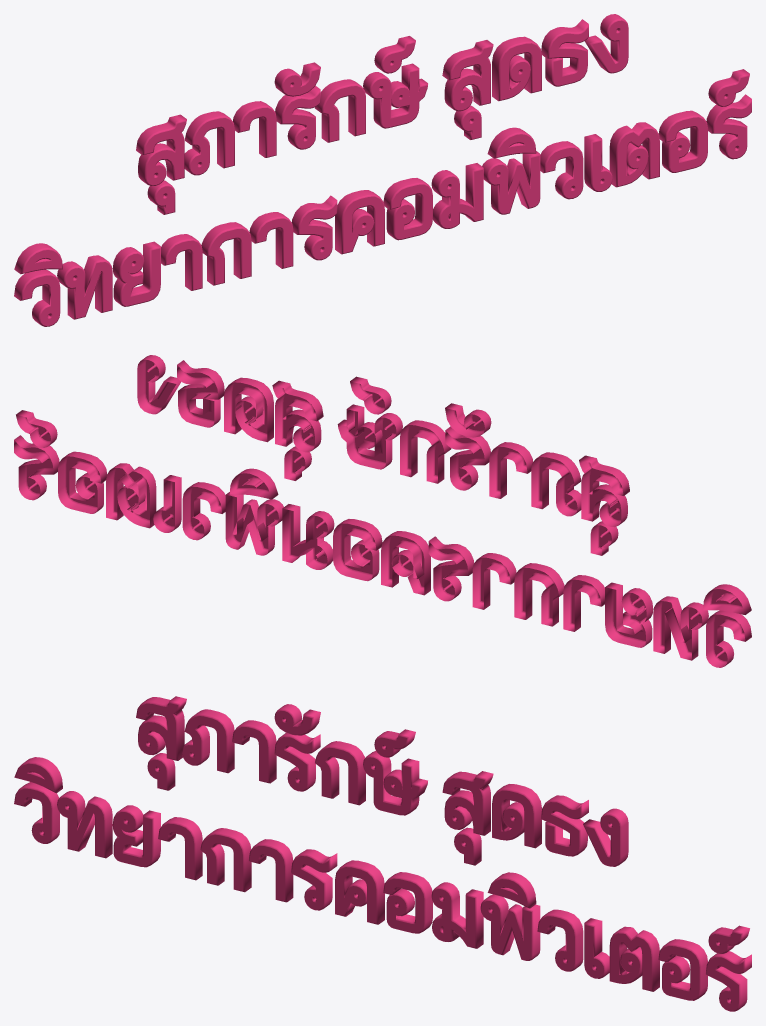
3 renders of one model, top to bottom at view 1: azimuth 30°, elevation 25°; view 2: azimuth 150°, elevation 25°; view 3: azimuth 330°, elevation 25°, orthographic.
Visible parts, largest first — view 1: Text; view 2: Text; view 3: Text.
Boxes of the visible parts, x1,y1,x2,y2 form: Text: [14, 14, 751, 326]; Text: [14, 355, 751, 667]; Text: [14, 696, 751, 1011].
Bounding box in the file's own units: 1.42 × 0.3642 × 0.0239.
